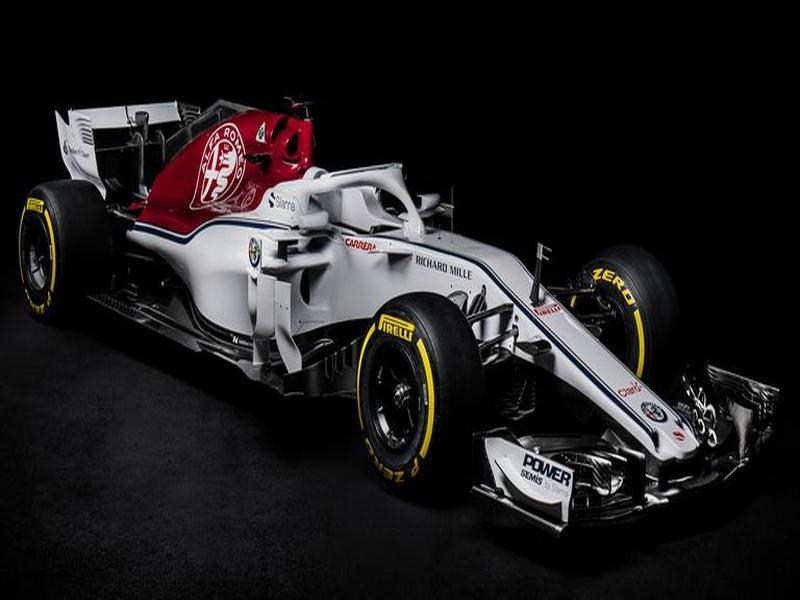f1: (13, 65, 800, 522)
